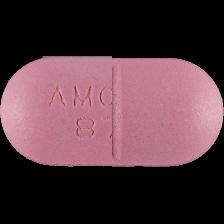63187-013: (0, 0, 224, 224)
